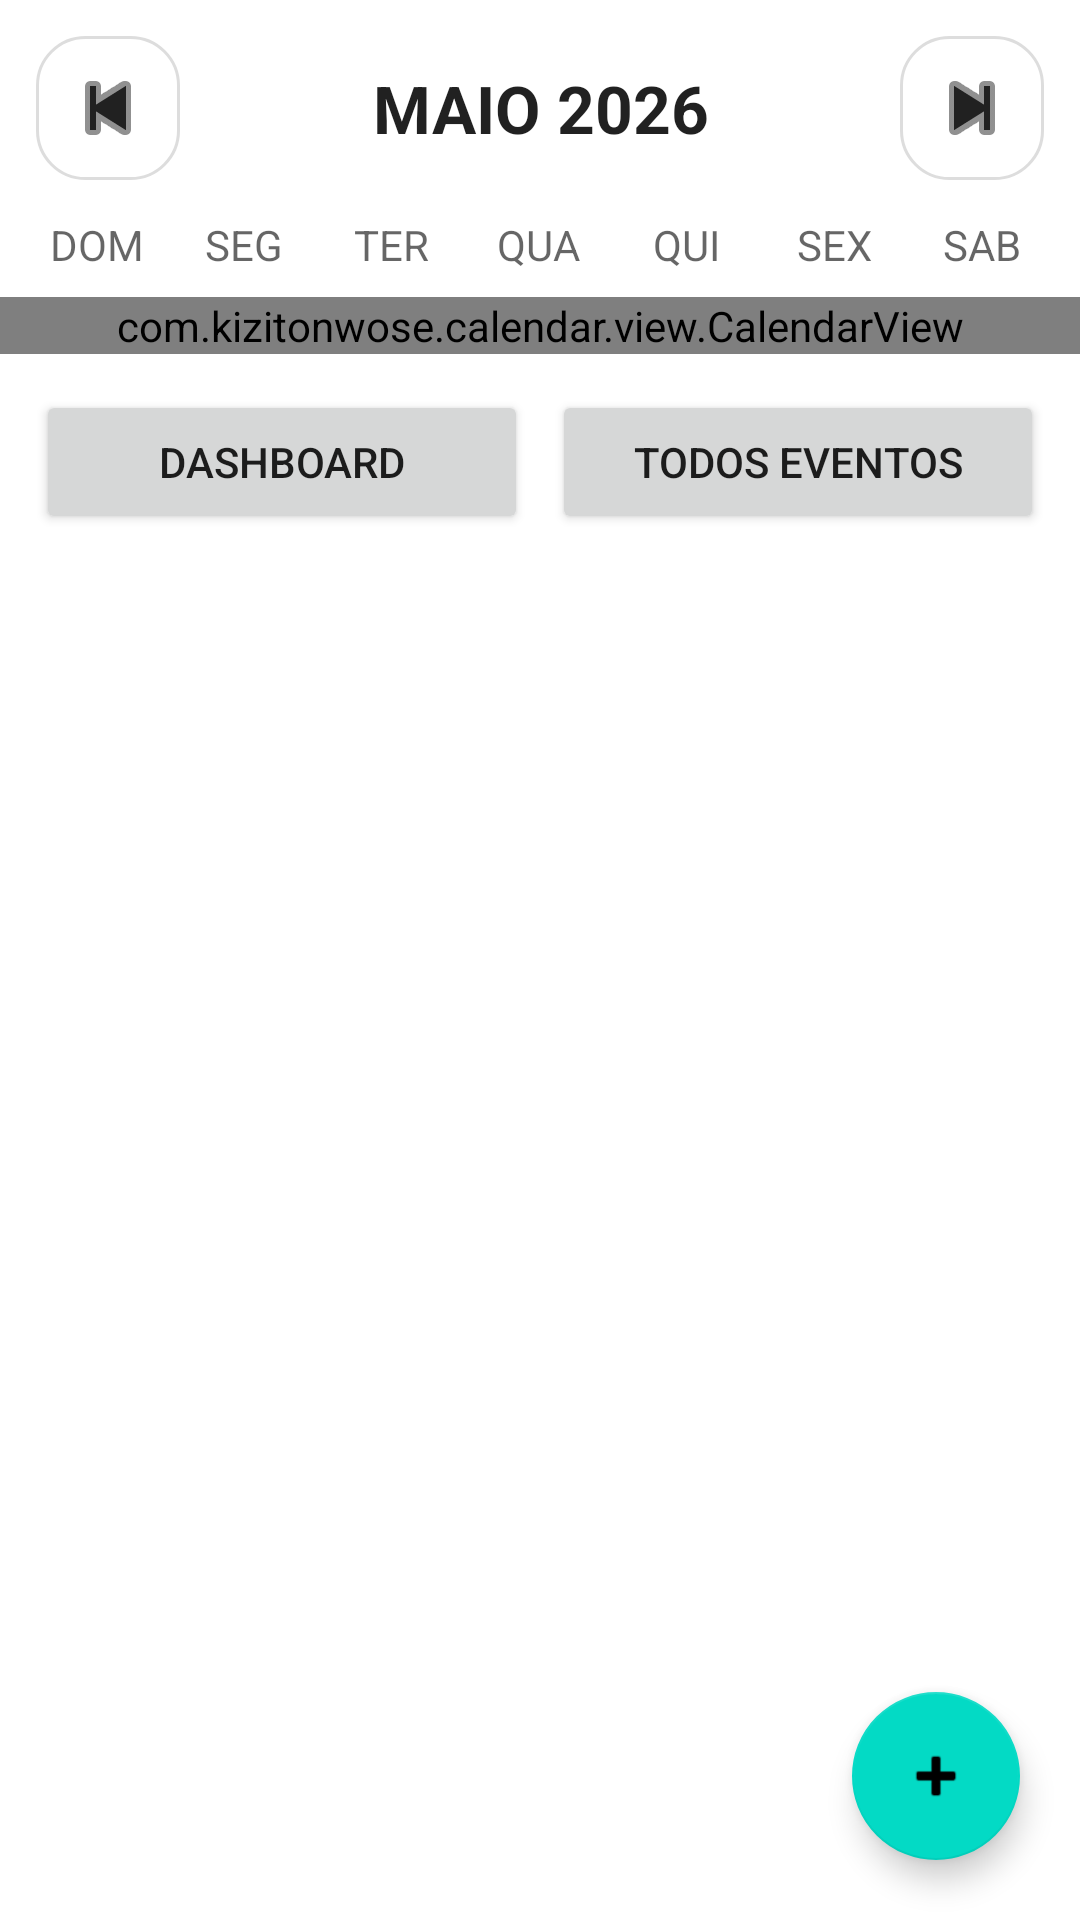

Screen size 1080 x 1920. Icon name, then its box in pixels as (x1, y1, x2, y2):
Anterior: (36, 36, 180, 180)
Novo evento: (852, 1692, 1020, 1860)
Próximo: (900, 36, 1044, 180)
